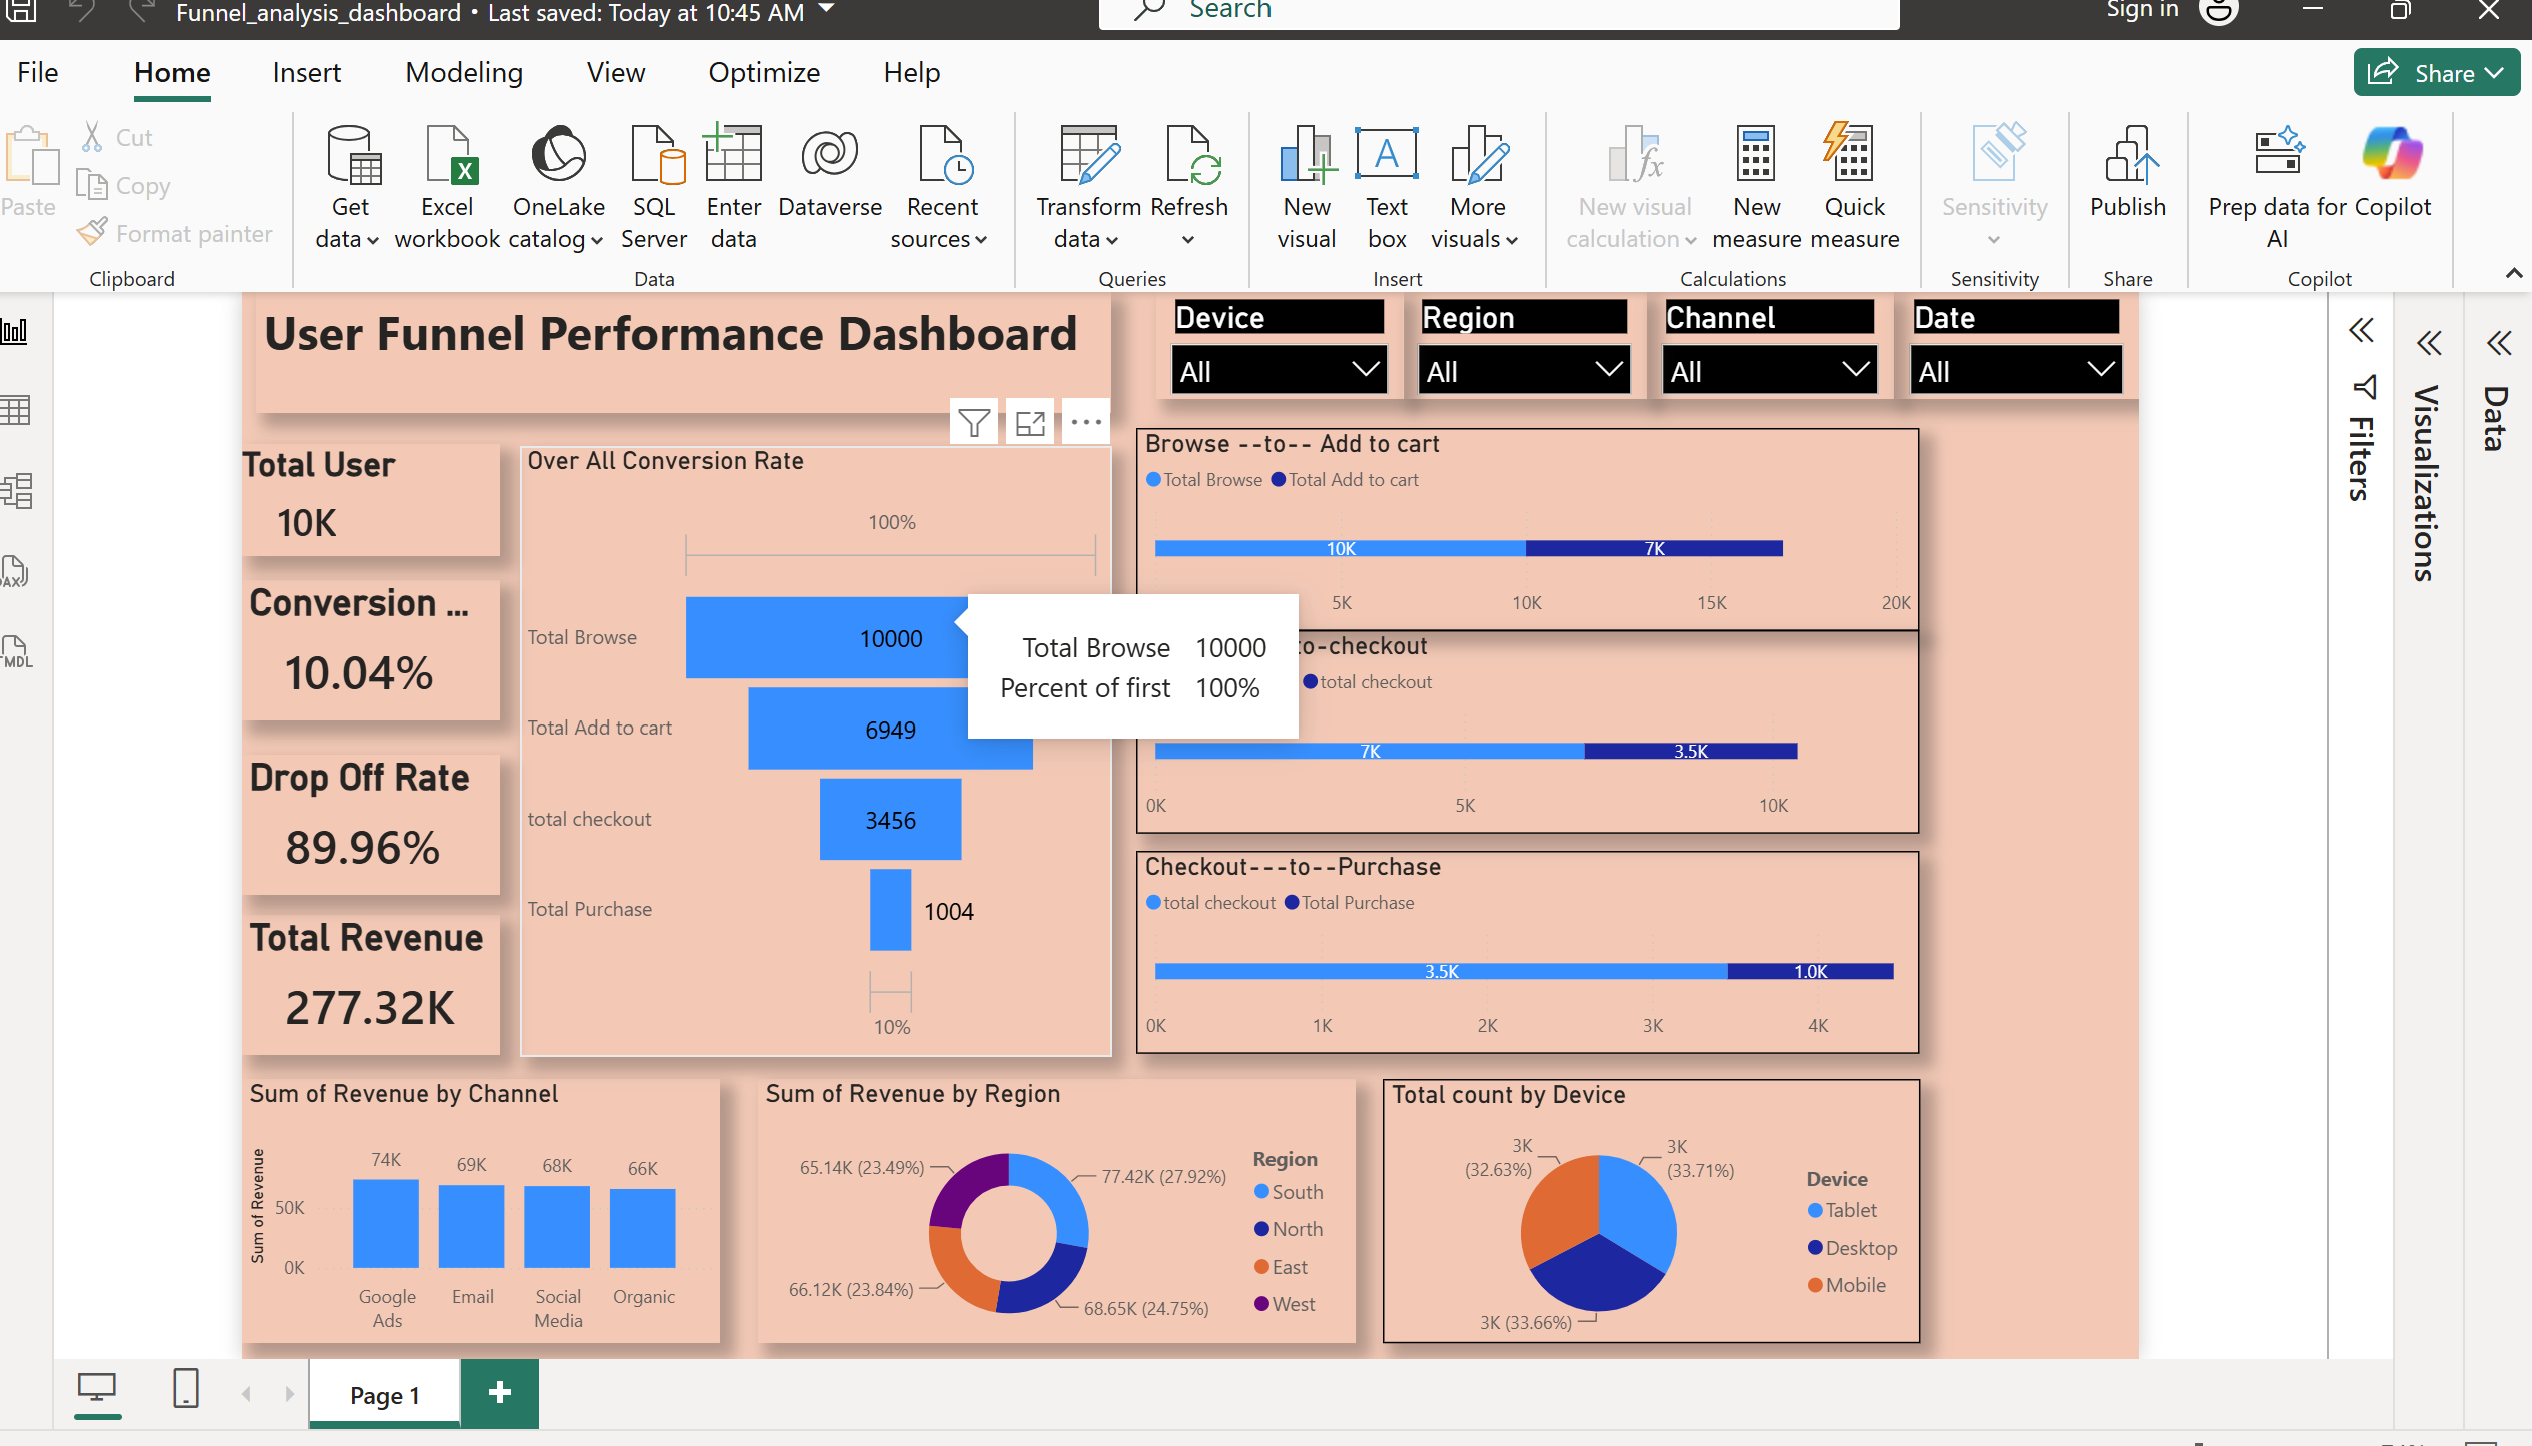

The page's visual inventory and layout, read from the dashboard file:
{"tool":"powerbi","page":{"name":"Page 1","canvas":[1280,720],"ordinal":0},"visuals":[{"type":"textbox","box":[9.5,0,577.5,81.4],"z":0},{"type":"slicer","fields":{"Values":["Funnel_Analysis_Data.Date"]},"box":[1115.3,0,164.7,72],"z":1000},{"type":"slicer","fields":{"Values":["Funnel_Analysis_Data.Channel"]},"box":[948.6,0,166.6,72],"z":2000},{"type":"slicer","fields":{"Values":["Funnel_Analysis_Data.Region"]},"box":[783.9,0,164.7,72],"z":3000},{"type":"slicer","fields":{"Values":["Funnel_Analysis_Data.Device"]},"box":[617.3,0,166.6,72],"z":4000},{"type":"cardVisual","title":"Total User","fields":{"Data":["Funnel_Analysis_Data.Total count"]},"box":[0,102.2,174.2,75.7],"z":5000},{"type":"cardVisual","title":"Conversion Rate","fields":{"Data":["Funnel_Analysis_Data.Conversion Rate"]},"box":[0,195,174.2,94.7],"z":6000},{"type":"cardVisual","title":"Drop Off Rate","fields":{"Data":["Funnel_Analysis_Data.Drop off rate"]},"box":[0,312.4,174.2,94.7],"z":7000},{"type":"cardVisual","title":"Total Revenue","fields":{"Data":["Funnel_Analysis_Data.Total Revenue"]},"box":[0,420.4,174.2,94.7],"z":8000},{"type":"funnel","title":"Over All Conversion Rate","fields":{"Y":["Funnel_Analysis_Data.Total Browse","Funnel_Analysis_Data.Total Add to cart","Funnel_Analysis_Data.total checkout","Funnel_Analysis_Data.Total Purchase"]},"box":[188.3,104.4,398.7,411.4],"z":9000},{"type":"barChart","title":"Browse --to-- Add to cart","fields":{"Y":["Funnel_Analysis_Data.Total Browse","Funnel_Analysis_Data.Total Add to cart"]},"box":[604.3,91.4,528.6,137.1],"z":10000},{"type":"barChart","title":"Checkout---to--Purchase","fields":{"Y":["Funnel_Analysis_Data.total checkout","Funnel_Analysis_Data.Total Purchase"]},"box":[604.3,377.1,528.6,137.1],"z":10001},{"type":"barChart","title":"Add to cart--to-checkout","fields":{"Y":["Funnel_Analysis_Data.Total Add to cart","Funnel_Analysis_Data.total checkout"]},"box":[604.3,228.6,528.6,137.1],"z":10002},{"type":"columnChart","fields":{"Y":["Sum(Funnel_Analysis_Data.Revenue)"],"Category":["Funnel_Analysis_Data.Channel"]},"box":[0,531.4,322.9,178.6],"z":10003},{"type":"donutChart","fields":{"Y":["Sum(Funnel_Analysis_Data.Revenue)"],"Category":["Funnel_Analysis_Data.Region"]},"box":[348.6,531.4,402.9,178.6],"z":10004},{"type":"pieChart","fields":{"Y":["Funnel_Analysis_Data.Total count"],"Category":["Funnel_Analysis_Data.Device"]},"box":[770,531.4,362.9,178.6],"z":10005}]}

Visuals, with their boxes on the page's 1280x720 design canvas (x1, y1, x2, y2). These are canvas units, not pixel positions in the 2532x1446 screenshot, which may show the page scaled, cropped or inside an application window:
textbox: locate(10, 0, 587, 81)
slicer - Funnel_Analysis_Data.Date: locate(1115, 0, 1280, 72)
slicer - Funnel_Analysis_Data.Channel: locate(949, 0, 1115, 72)
slicer - Funnel_Analysis_Data.Region: locate(784, 0, 949, 72)
slicer - Funnel_Analysis_Data.Device: locate(617, 0, 784, 72)
"Total User" cardVisual: locate(0, 102, 174, 178)
"Conversion Rate" cardVisual: locate(0, 195, 174, 290)
"Drop Off Rate" cardVisual: locate(0, 312, 174, 407)
"Total Revenue" cardVisual: locate(0, 420, 174, 515)
"Over All Conversion Rate" funnel: locate(188, 104, 587, 516)
"Browse --to-- Add to cart" barChart: locate(604, 91, 1133, 228)
"Checkout---to--Purchase" barChart: locate(604, 377, 1133, 514)
"Add to cart--to-checkout" barChart: locate(604, 229, 1133, 366)
columnChart - Sum(Funnel_Analysis_Data.Revenue) x Funnel_Analysis_Data.Channel: locate(0, 531, 323, 710)
donutChart - Sum(Funnel_Analysis_Data.Revenue) x Funnel_Analysis_Data.Region: locate(349, 531, 752, 710)
pieChart - Funnel_Analysis_Data.Total count x Funnel_Analysis_Data.Device: locate(770, 531, 1133, 710)
